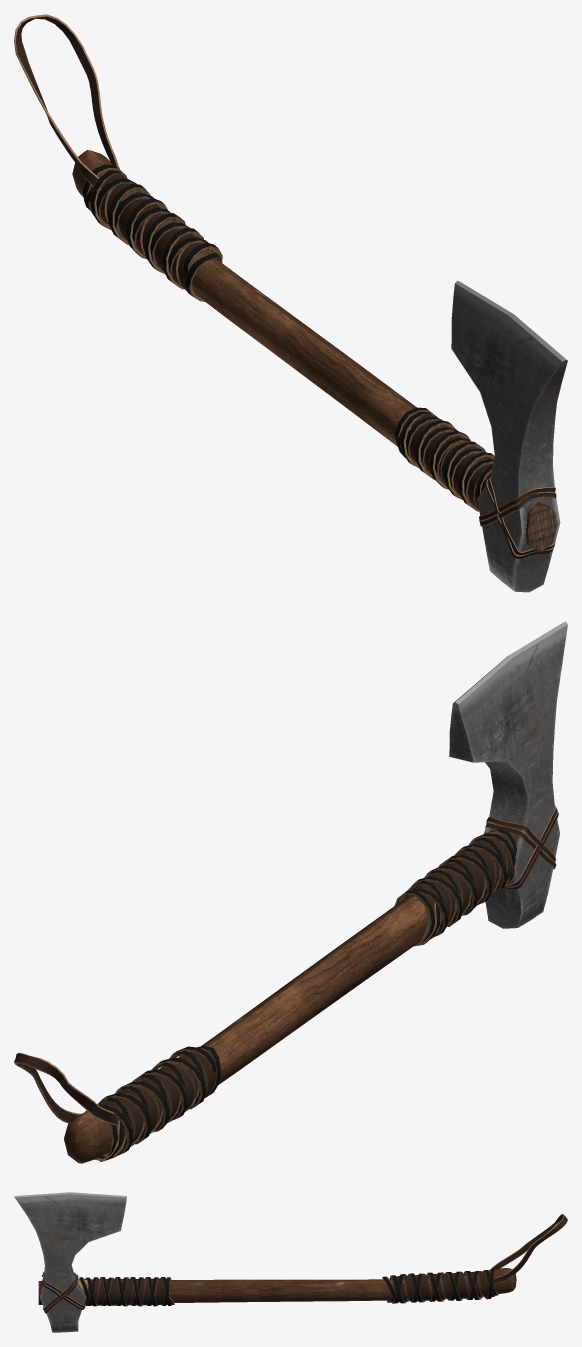
Rendered from Axe.fbx.
3 renders of one model, top to bottom at view 1: azimuth 30°, elevation 25°; view 2: azimuth 150°, elevation 25°; view 3: azimuth 270°, elevation 25°, orthographic. The views are drawn at different scales.
Visible parts, largest first — view 1: axe, wrap, handle; view 2: axe, wrap, handle; view 3: axe, wrap, handle.
Part boxes in pixels (box(x1,y1,x2,y2)): axe: box(451, 280, 567, 592); wrap: box(14, 14, 556, 558); handle: box(72, 150, 557, 551); axe: box(449, 621, 567, 928); wrap: box(14, 804, 558, 1161); handle: box(64, 849, 503, 1163); axe: box(14, 1192, 126, 1332); wrap: box(42, 1214, 567, 1313); handle: box(38, 1268, 516, 1304).
Size of the model in its own units: 24.01 by 107 by 385.
